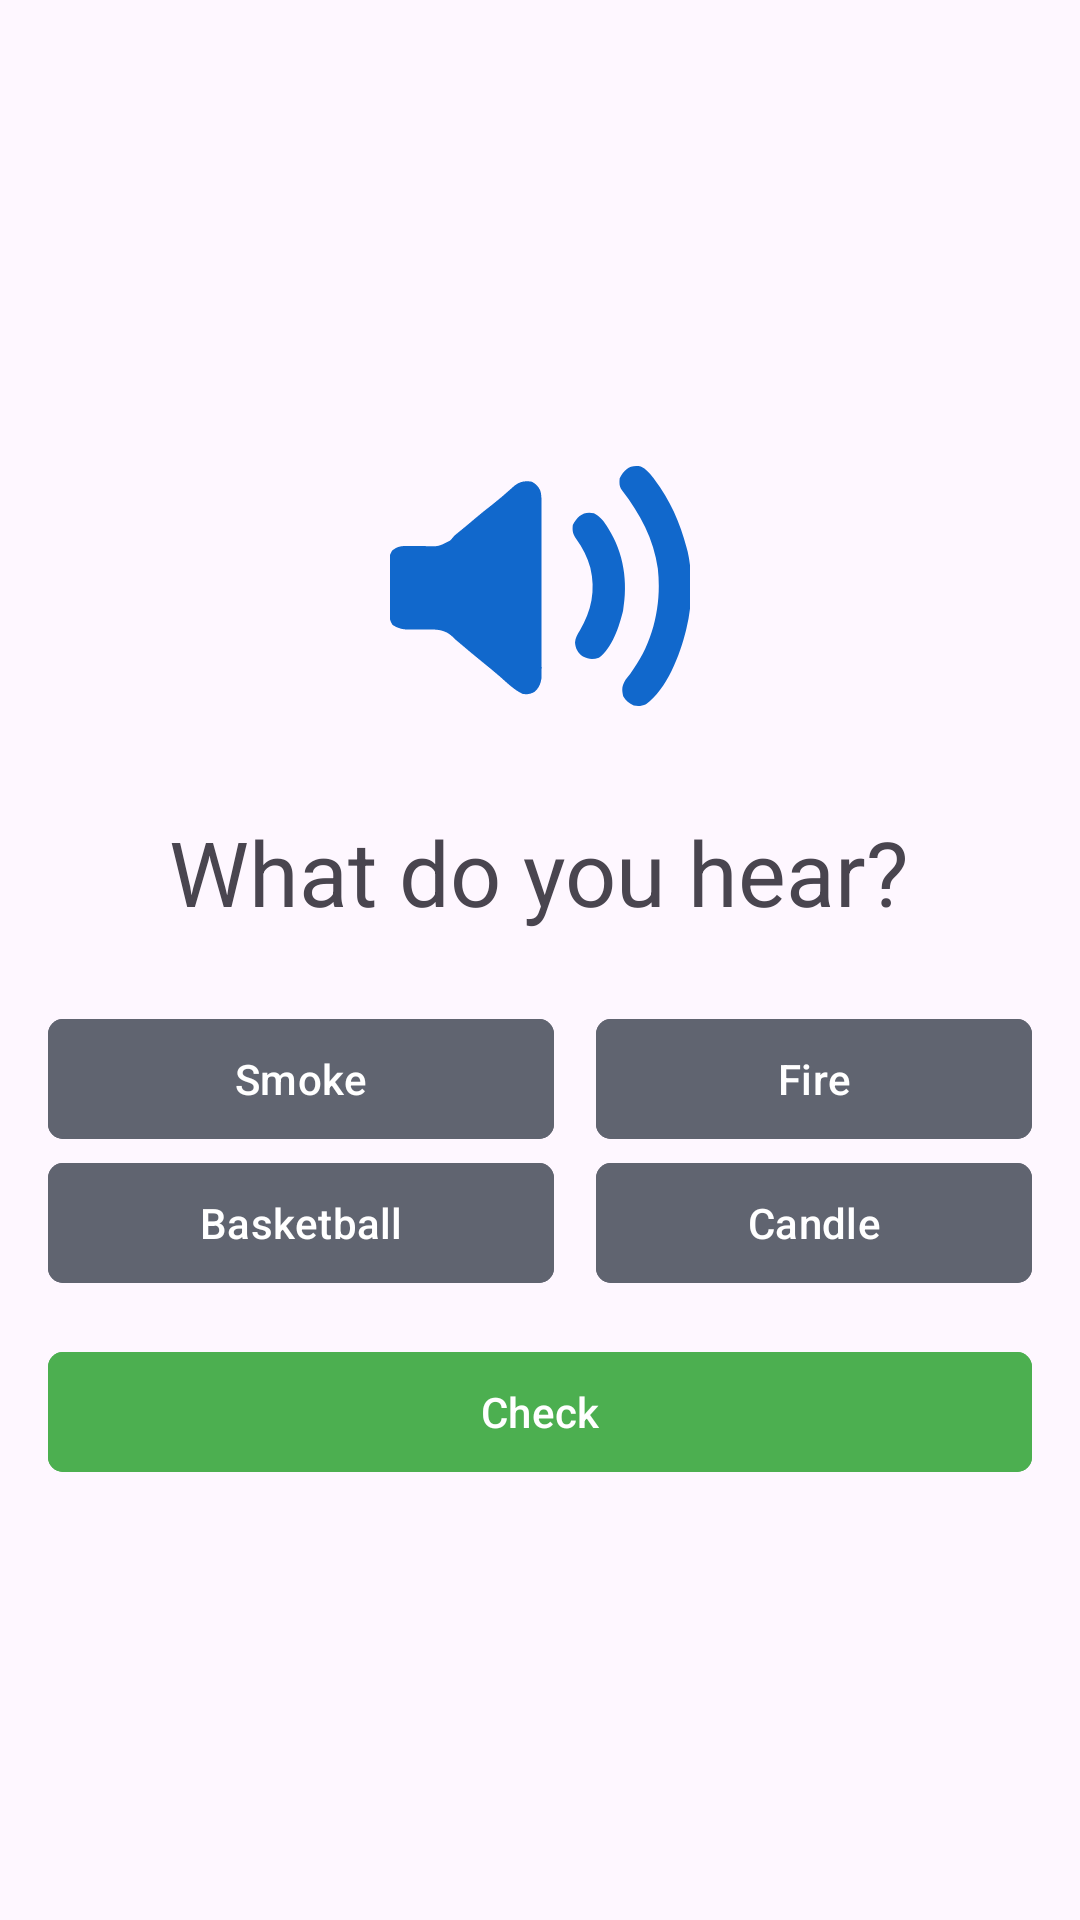

Where icons sit on this 1080x1920 app screen, as box(x1, y1, x2, y2):
Press button to play sound: box(390, 466, 690, 706)
